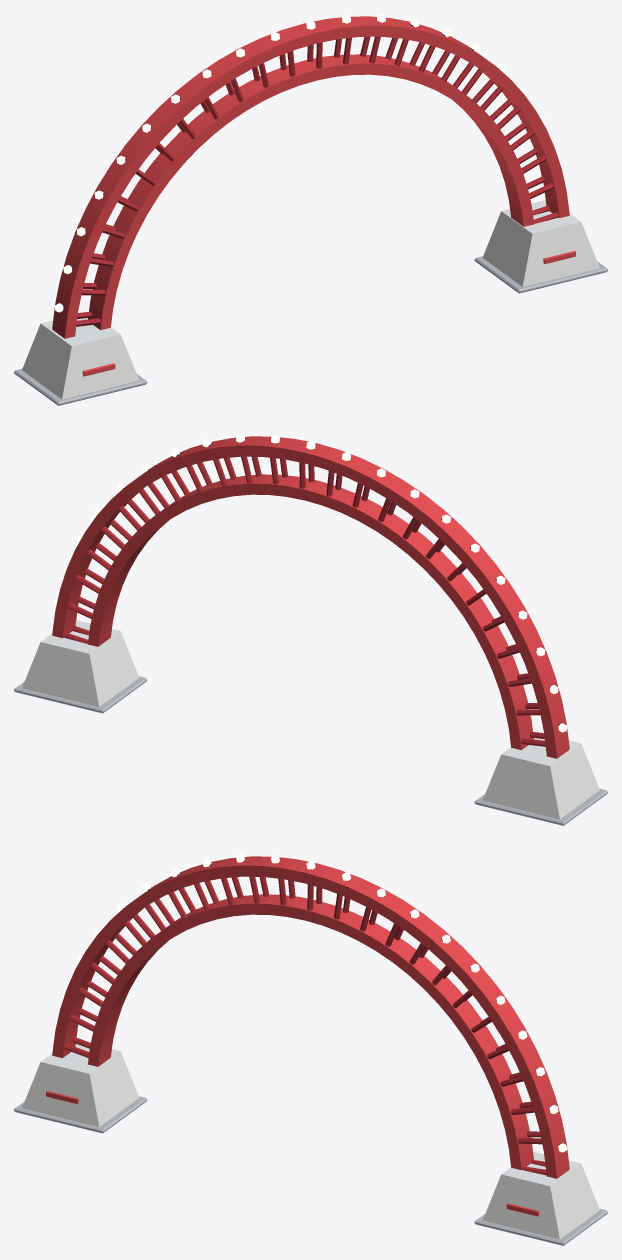
The model's file is arco_praca_metal_vermelho.glb.
The picture shows the model from 3 angles, top to bottom: view 1: azimuth 30°, elevation 25°; view 2: azimuth 150°, elevation 25°; view 3: azimuth 330°, elevation 25°; orthographic projection.
Parts seen in each view (by area): view 1: arco_praca_metal_vermelho; view 2: arco_praca_metal_vermelho; view 3: arco_praca_metal_vermelho.
Part boxes in pixels (left/top/right/bottom): arco_praca_metal_vermelho: left=14, top=14, right=607, bottom=405; arco_praca_metal_vermelho: left=14, top=434, right=607, bottom=825; arco_praca_metal_vermelho: left=14, top=854, right=607, bottom=1245.
Size of the model in its own units: 8.55 by 4.49 by 1.2.
Materials: 2 (1 with a texture image).
